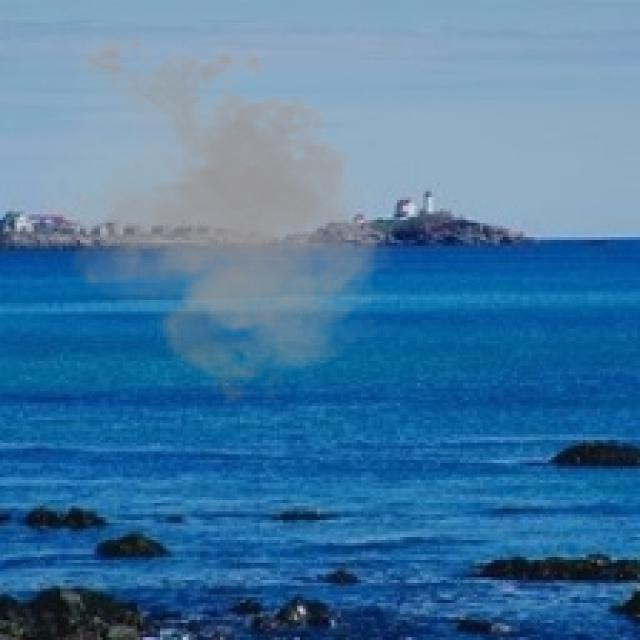Smoke: (17, 26, 406, 406)
